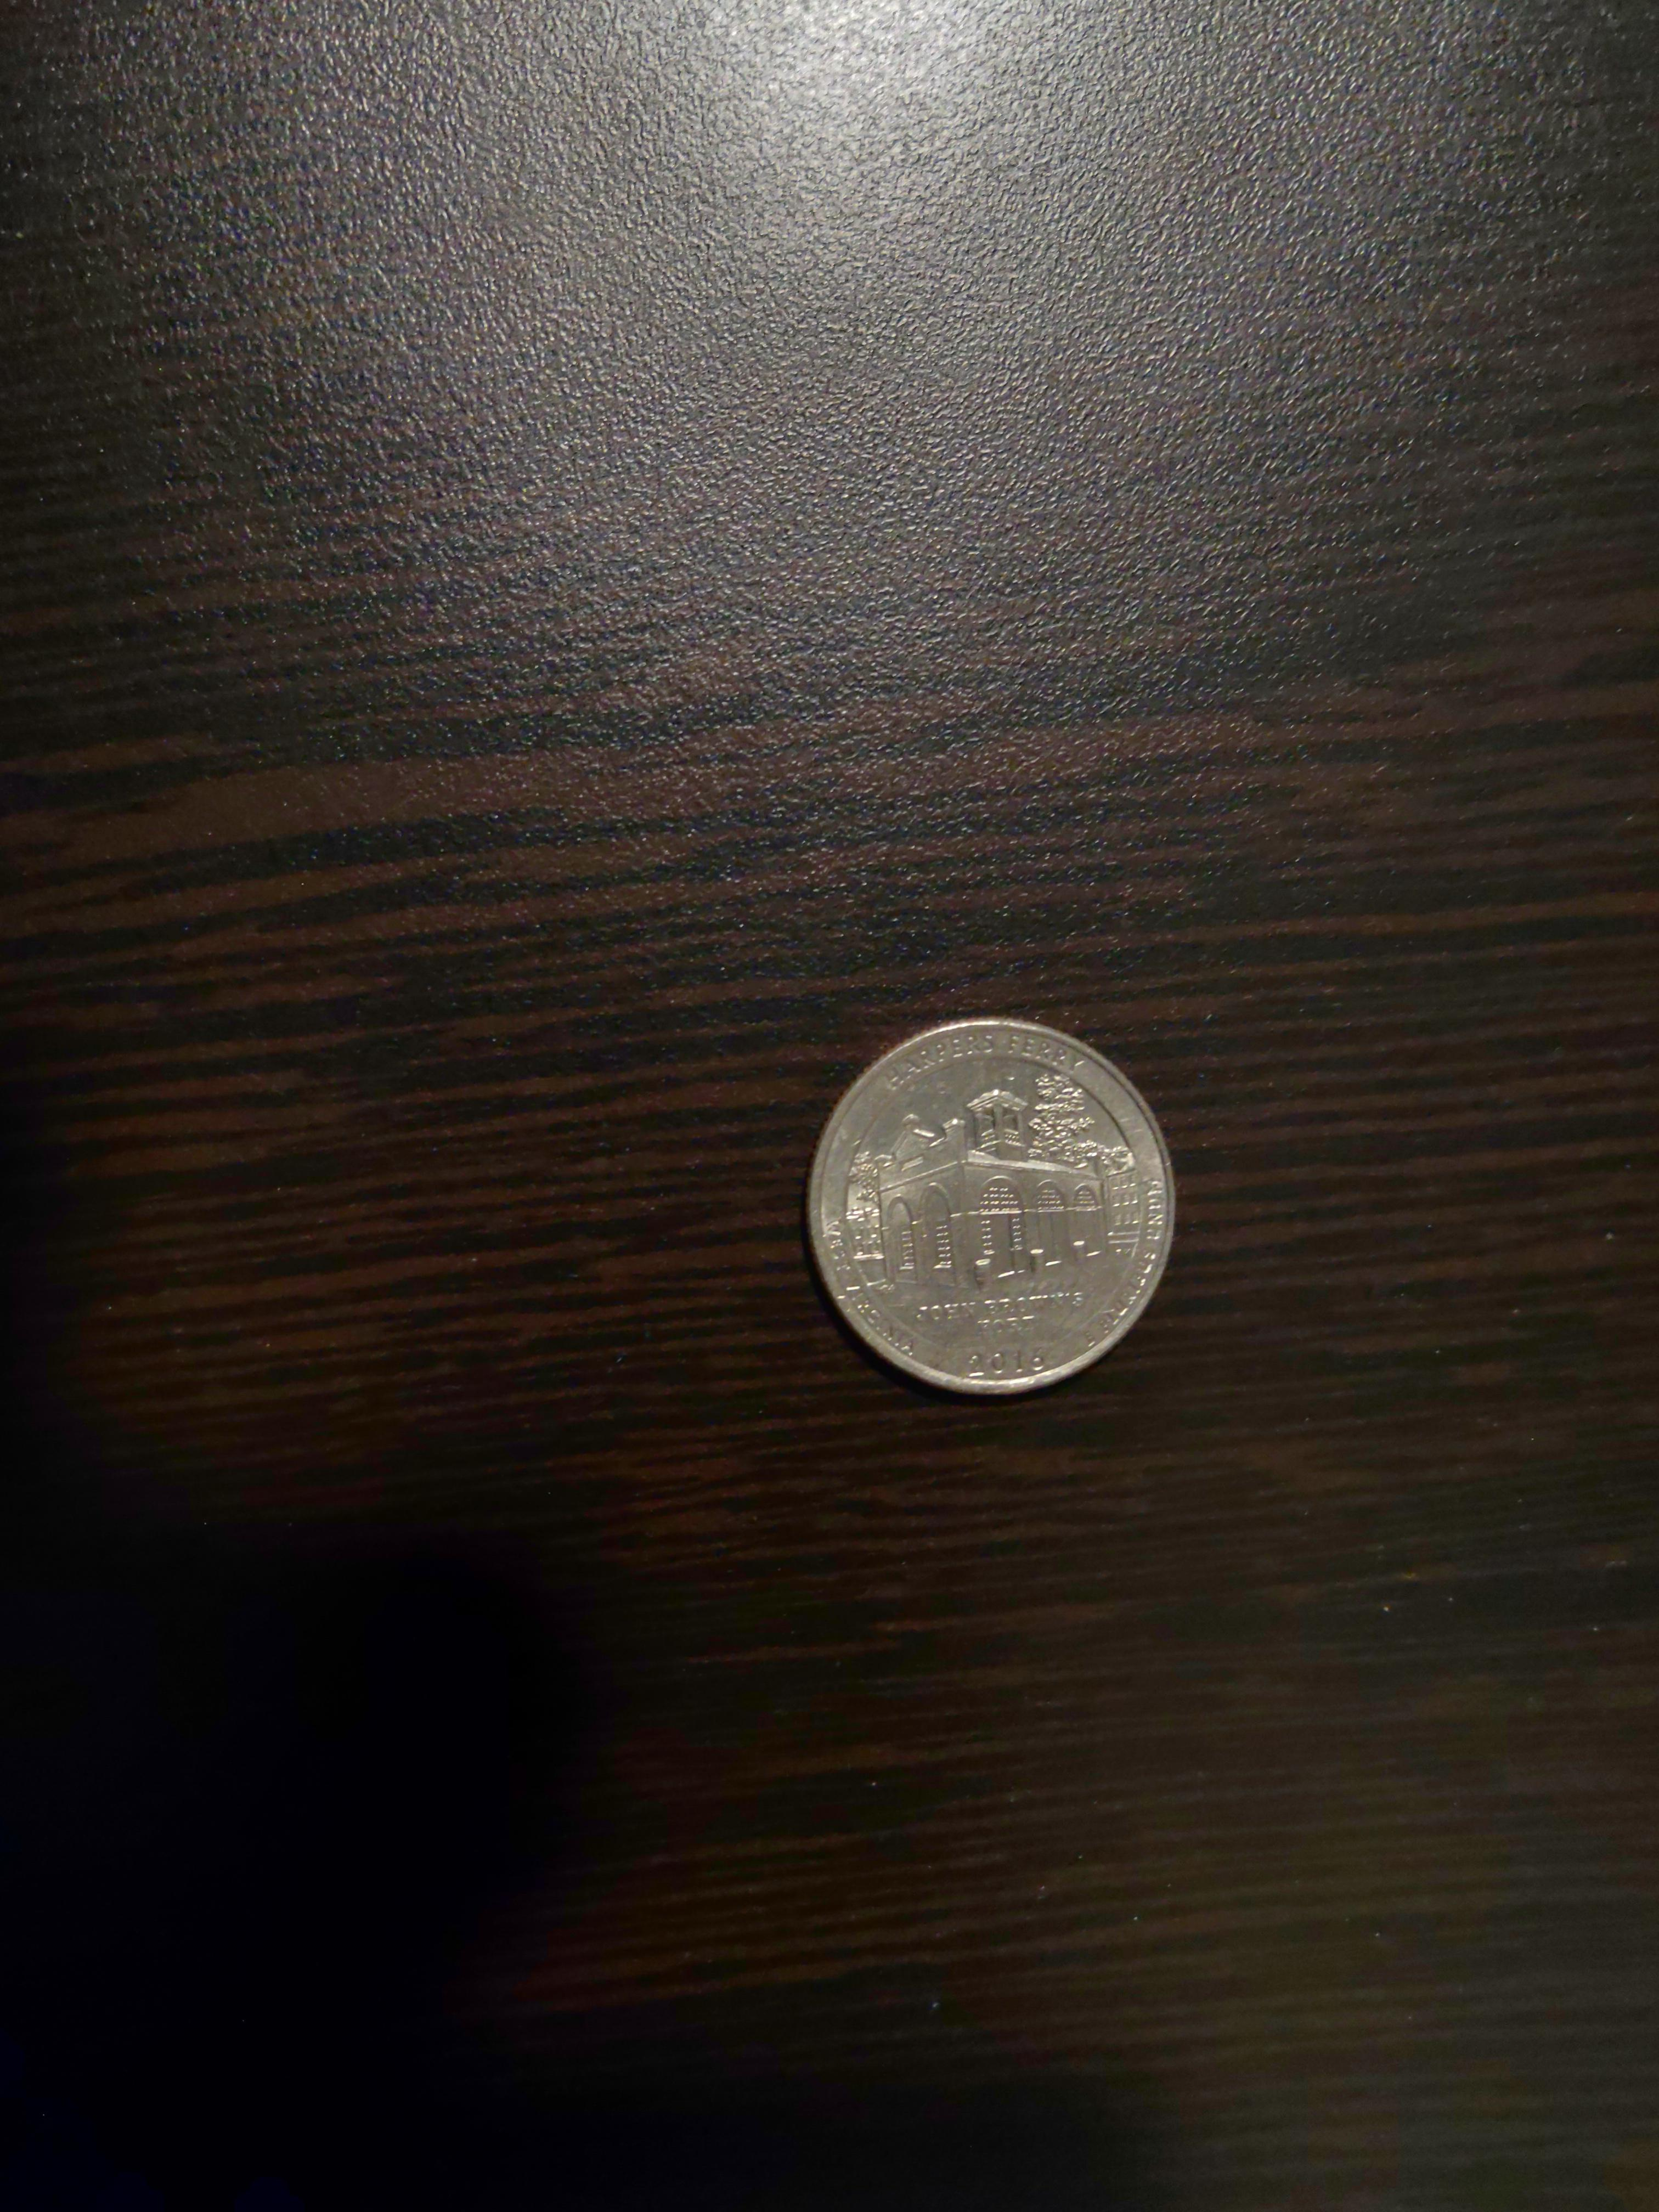Quarter: (800, 1010, 1183, 1400)
